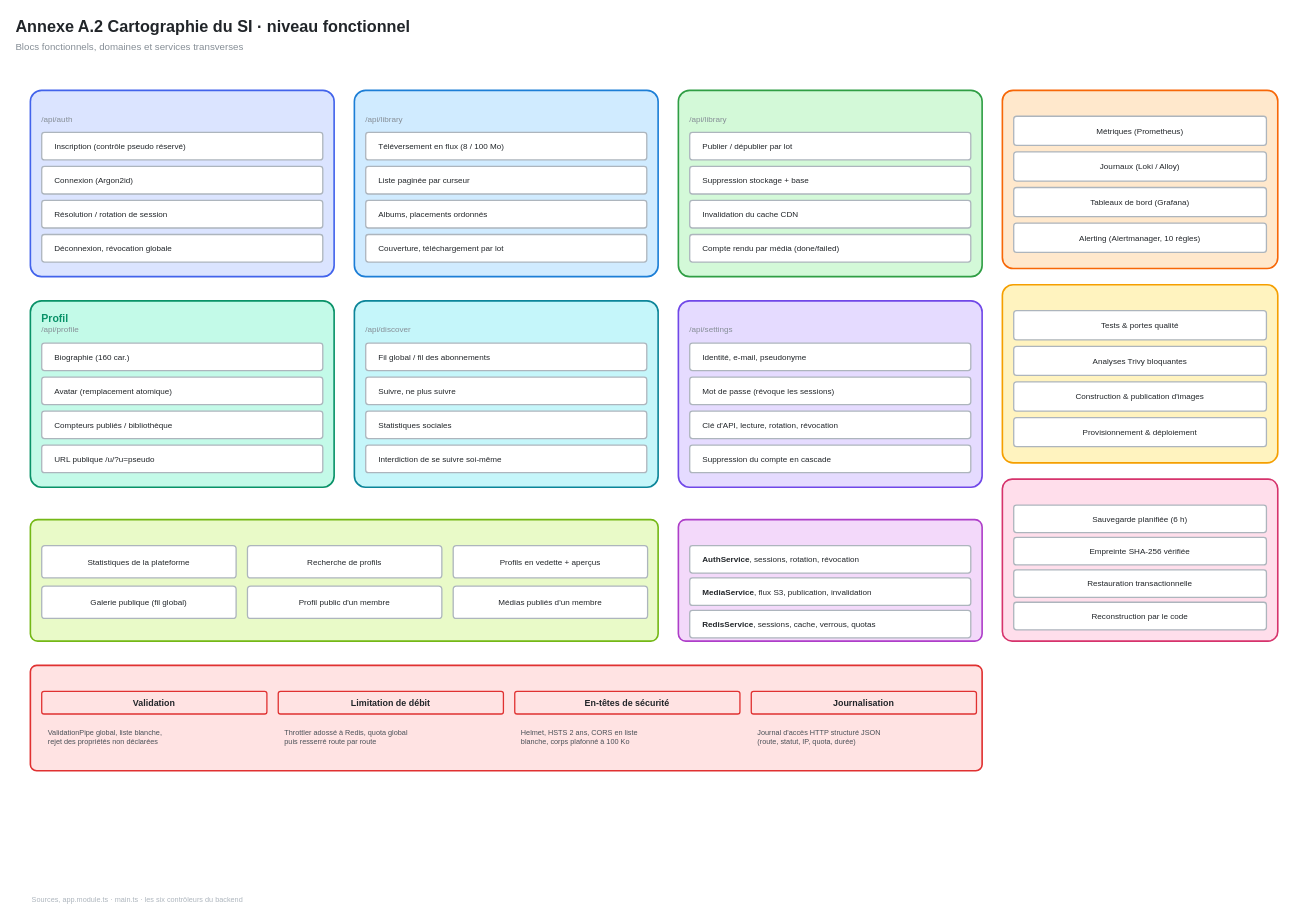
The diagram is 1302 pixels wide and 922 high, and some of its shapes have lost their labels. Each missing label, with the box of its shape:
API PUBLIQUE (sans authentification) · /api/public: (29, 518, 659, 642)
Authentification & session: (29, 89, 335, 277)
Bibliothèque & albums: (353, 89, 659, 277)
CONTINUITÉ: (1001, 478, 1278, 642)
Découverte & abonnements: (353, 300, 659, 488)
LIVRAISON CONTINUE: (1001, 284, 1278, 463)
Paramètres & compte: (677, 300, 983, 488)
PROPRIÉTÉS APPLIQUÉES À TOUTES LES ROUTES: (29, 664, 983, 771)
Publication & partage: (677, 89, 983, 277)
SERVICES TRANSVERSES: (677, 518, 983, 642)
SUPERVISION: (1001, 89, 1278, 269)
